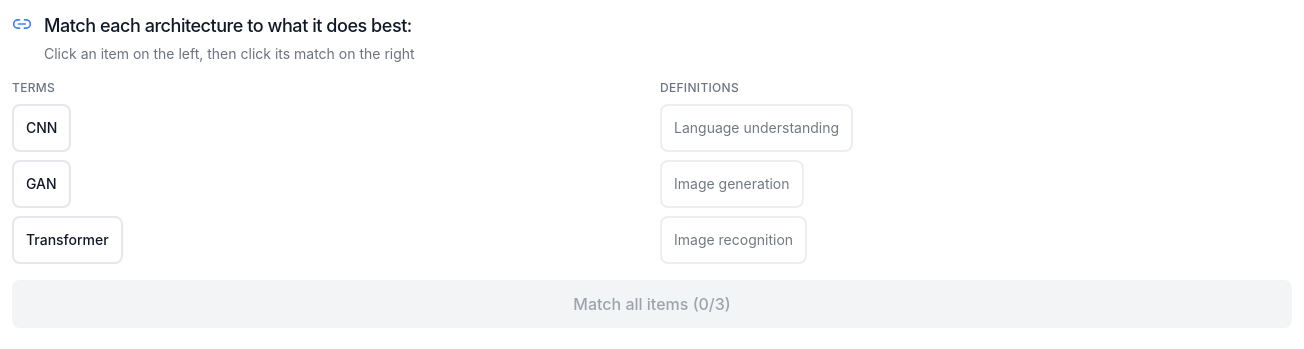
Test: MatchingQuestion › creates a match when clicking right item after selecting left
Note: Select left item
Click the button with test id "left-p1".
click(42, 128)  # box 12,104 -> 72,152
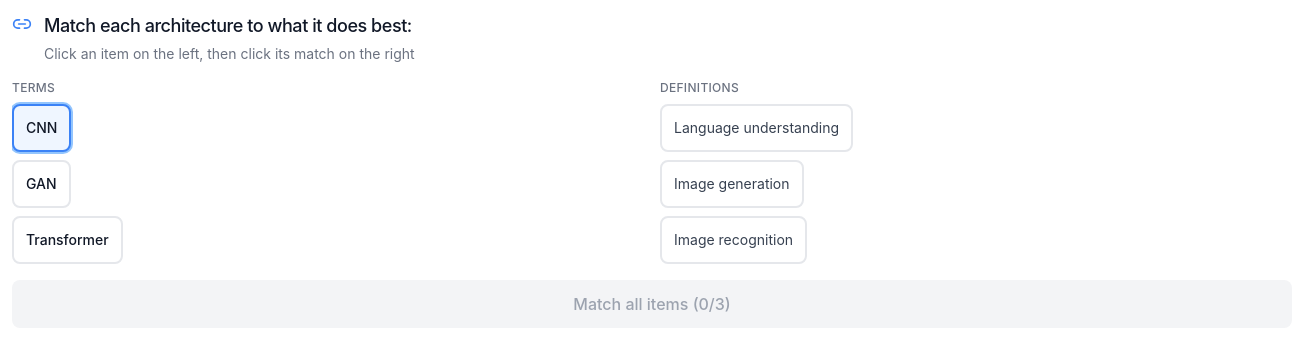
Note: Click matching right item
Click the button with test id "right-p1".
click(734, 240)  # box 660,216 -> 807,264
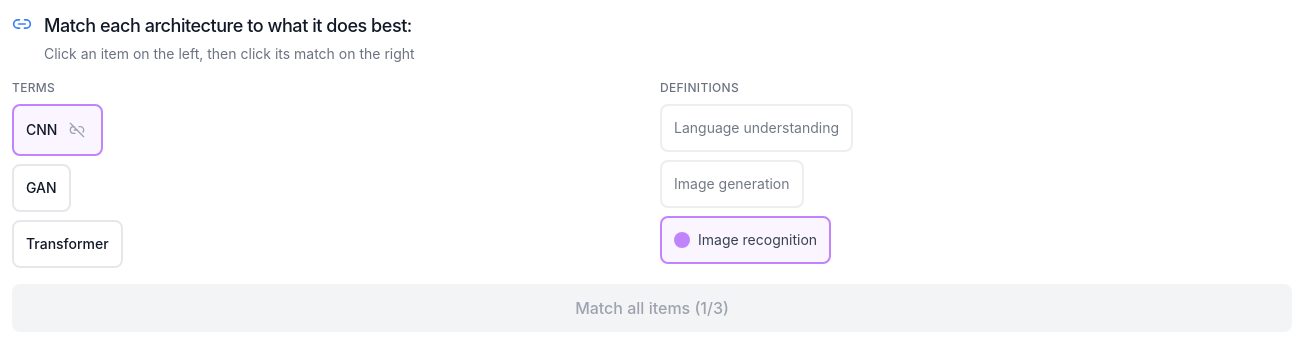
Now the button with test id "remove-match-p1" is shown, box 70,122 -> 86,138
